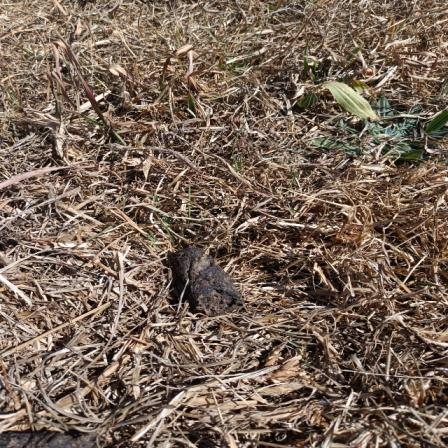dog-poop: (171, 245, 256, 319)
